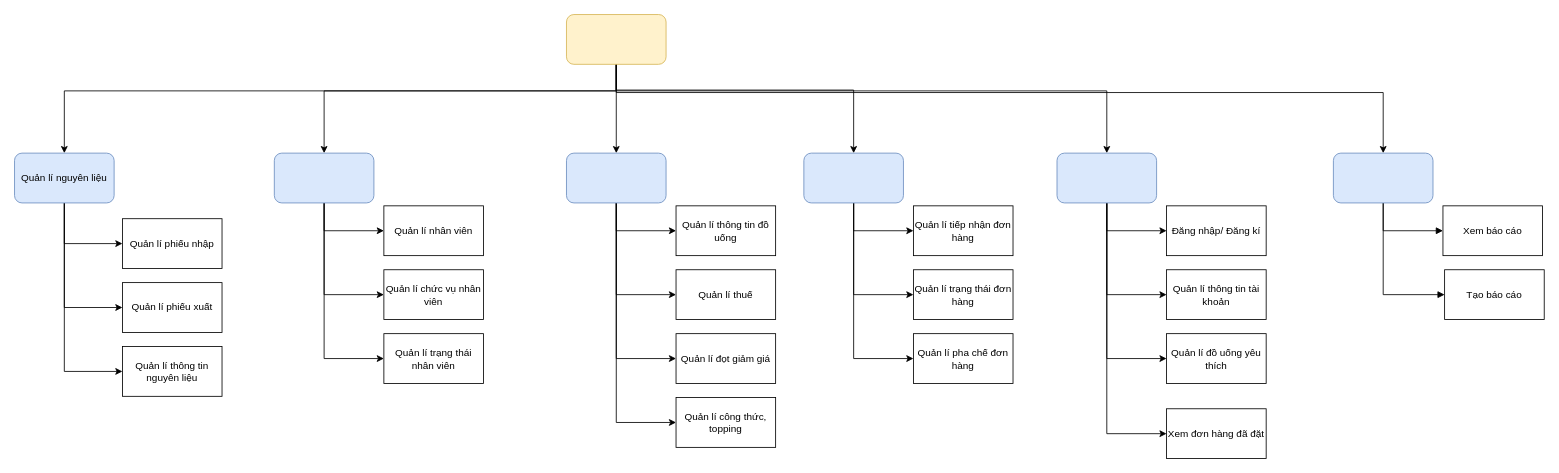
Image size: 1559x473. Some labels were removed from this diagram. Here are the shapes that lost their labels. From the top down, the centre of each, then its label:
At [616,39]: "Hệ thống quản lí cơ sở bán đồ uống".
At [323,177]: "Quản lí nhân sự".
At [616,177]: "Quản lí đồ uống".
At [853,177]: "Quản lí đơn hàng".
At [1106,177]: "Quản lí khách hàng".
At [1383,177]: "Quản lí báo cáo".
